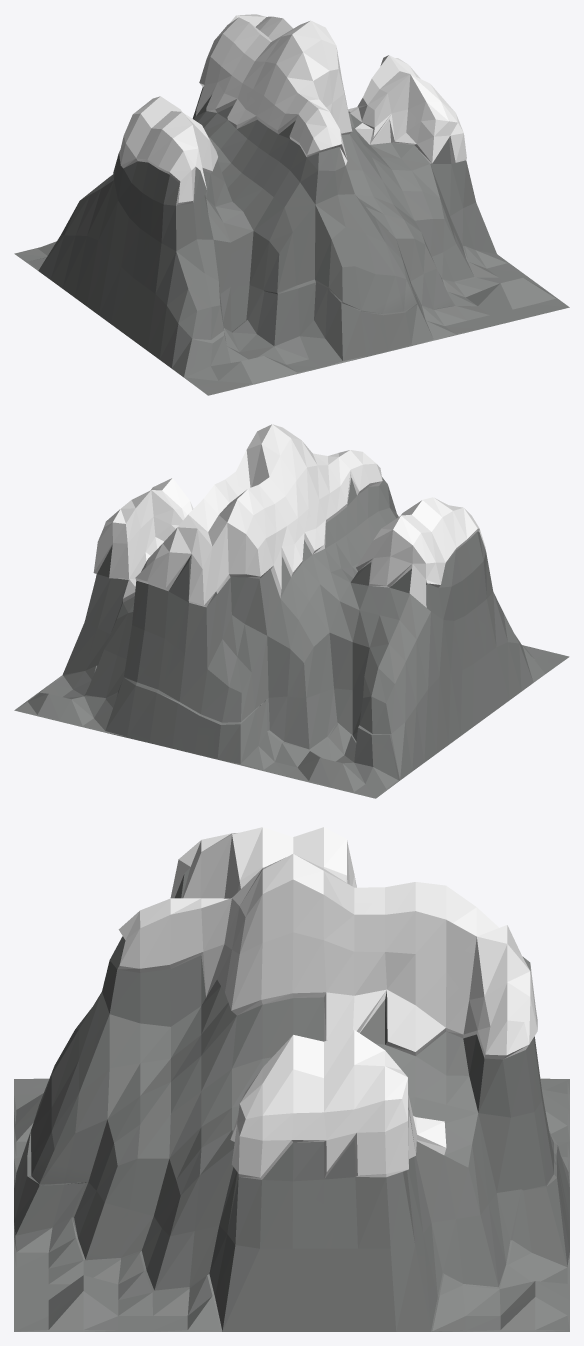
Rendered from Montagne.fbx.
The picture shows the model from 3 angles, top to bottom: view 1: azimuth 30°, elevation 25°; view 2: azimuth 150°, elevation 25°; view 3: azimuth 270°, elevation 25°; orthographic projection. The views are drawn at different scales.
Visible parts, largest first — view 1: Mountain_winter_001; view 2: Mountain_winter_001; view 3: Mountain_winter_001.
Boxes of the visible parts, box(x1,y1,x2,y2) form: Mountain_winter_001: box(14, 14, 569, 395); Mountain_winter_001: box(14, 424, 569, 798); Mountain_winter_001: box(14, 827, 569, 1331).
Size of the model in its own units: 4138 by 2791 by 3845.
